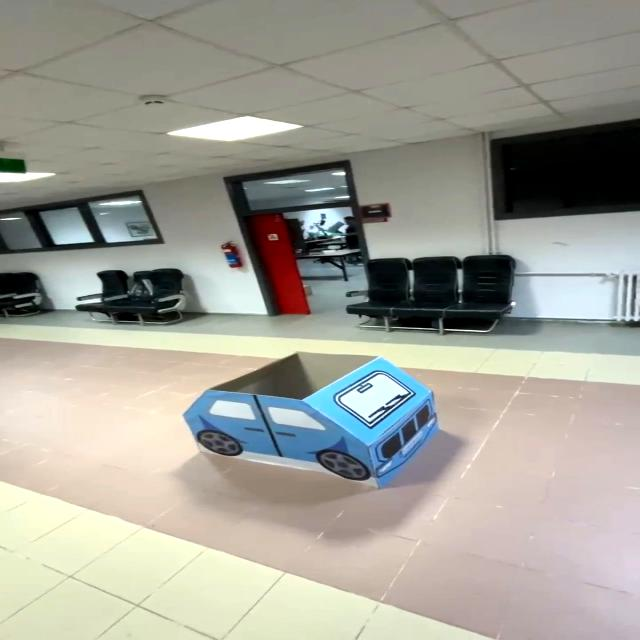blue_car: (142, 339, 472, 511)
